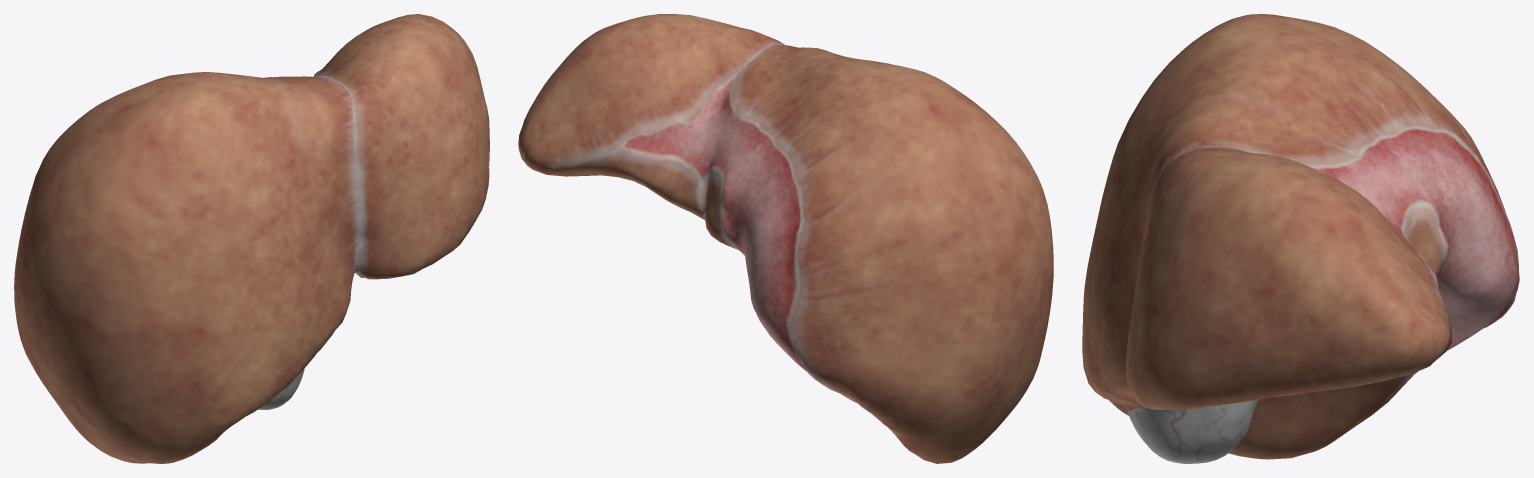
Rendered from NAFL_Liver.glb.
3 renders of one model, left to right at view 1: azimuth 30°, elevation 25°; view 2: azimuth 150°, elevation 25°; view 3: azimuth 270°, elevation 25°, orthographic. The views are drawn at different scales.
Visible parts, largest first — view 1: NAFL_Liver; view 2: NAFL_Liver; view 3: NAFL_Liver.
Boxes of the visible parts, x1,y1,x2,y2 form: NAFL_Liver: [14, 14, 489, 463]; NAFL_Liver: [518, 14, 1053, 463]; NAFL_Liver: [1082, 14, 1519, 463].
Bounding box in the file's own units: 19.6 × 14.74 × 12.54.
Materials: 1 (1 with a texture image).
